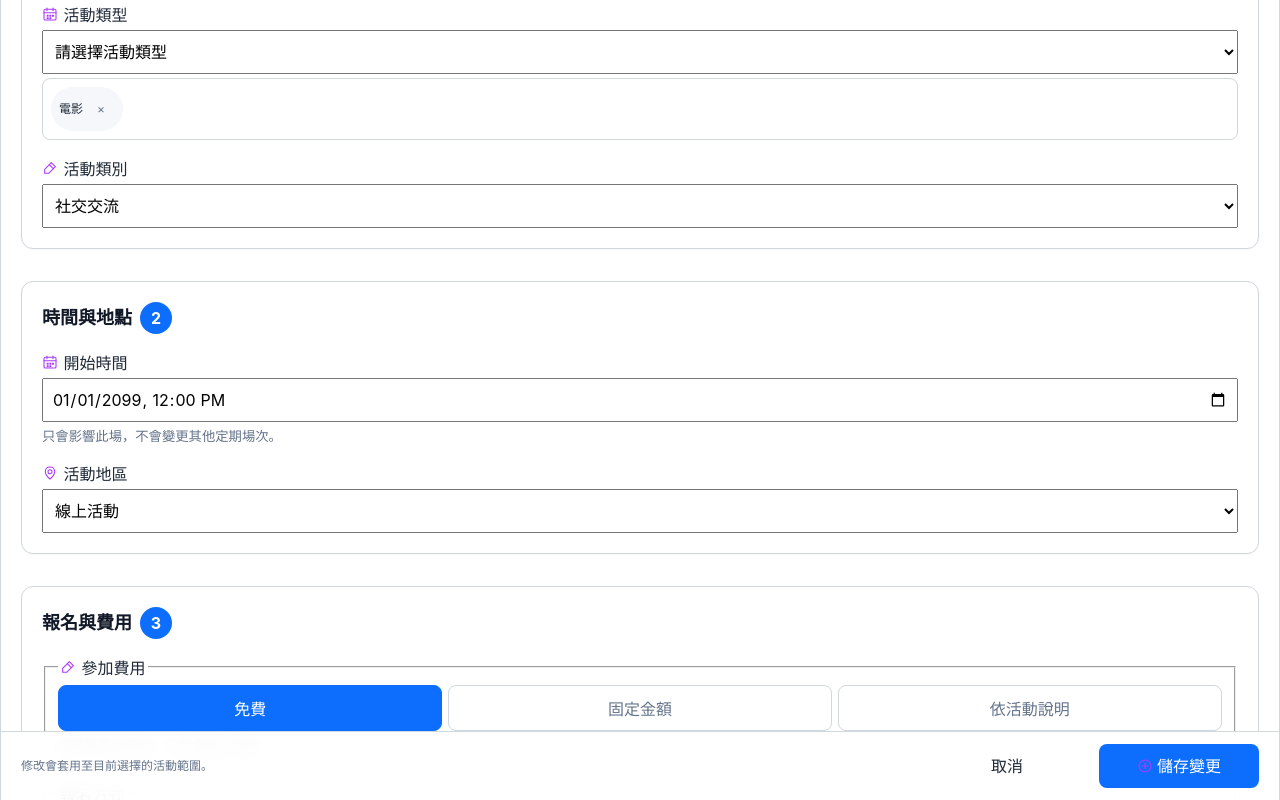
EditEventPage edit lock › rejects moving a recurring occurrence start time into the past before writing
(page scrolled)
Replace the text in the field labelled "開始時間" with "2020-01-01T12:00" at (640, 400), box 42,378 -> 1238,422
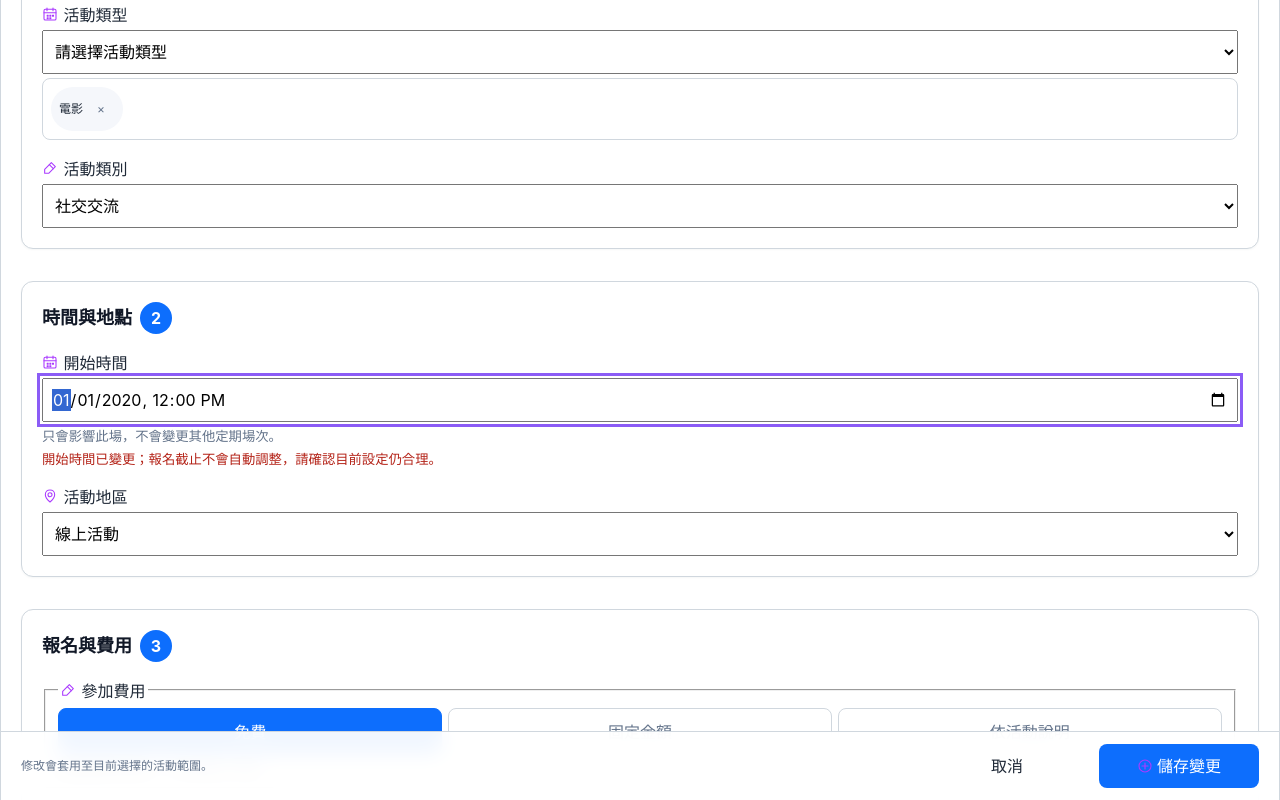
Click the button "儲存變更" at (1179, 766), box 1099,744 -> 1259,788
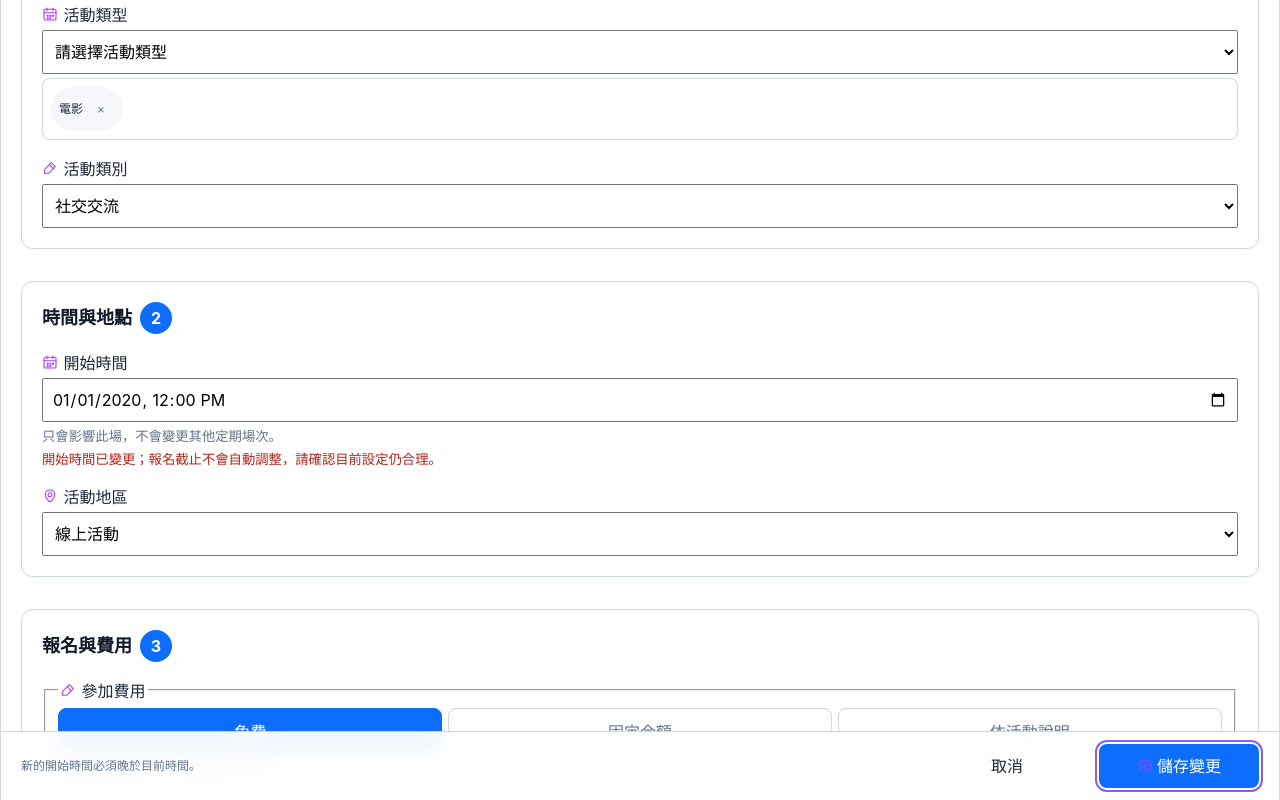
Check: the text "新的開始時間必須晚於目前時間。" is shown, box 21,757 -> 201,775
